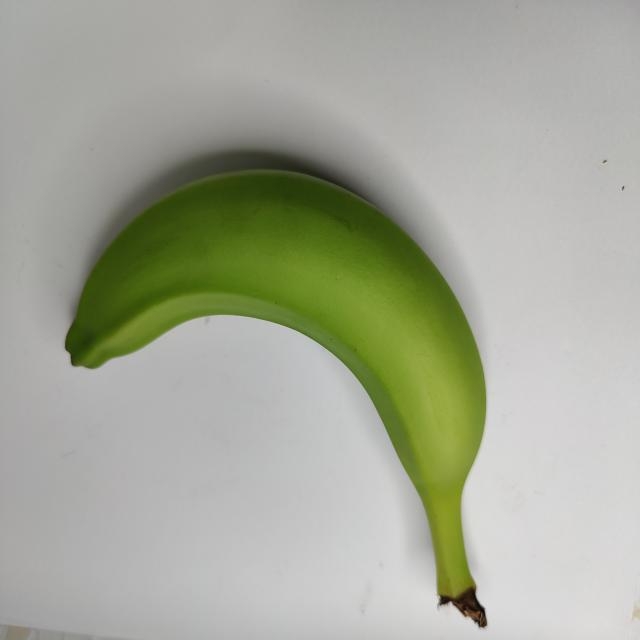raw: (40, 148, 517, 630)
